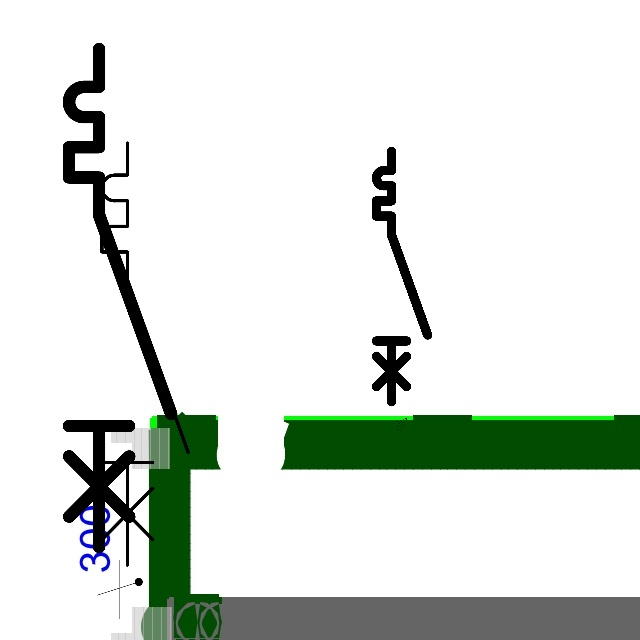interruptor_termomagnetico: (56, 36, 184, 559), (91, 132, 199, 576), (370, 145, 434, 408)
